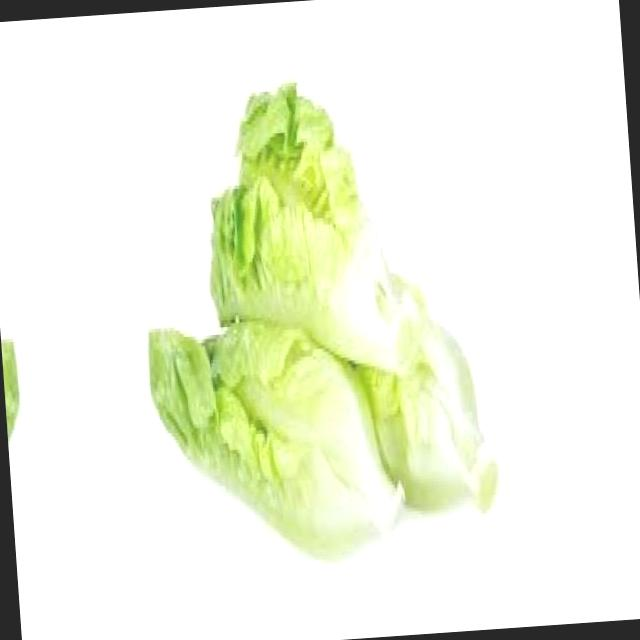healthy: (143, 302, 410, 574), (196, 70, 428, 383), (349, 284, 508, 525), (0, 327, 34, 583), (623, 274, 640, 506)
